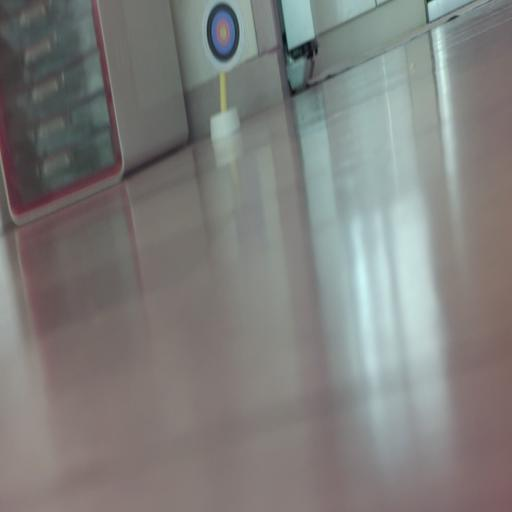target: (202, 0, 244, 74)
